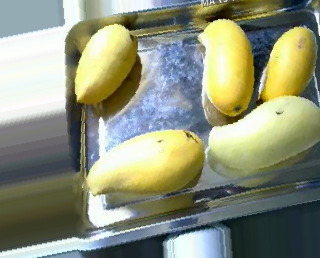Mango: (198, 89, 320, 180), (84, 126, 208, 203), (194, 14, 257, 118), (73, 22, 146, 108), (260, 24, 317, 103)
